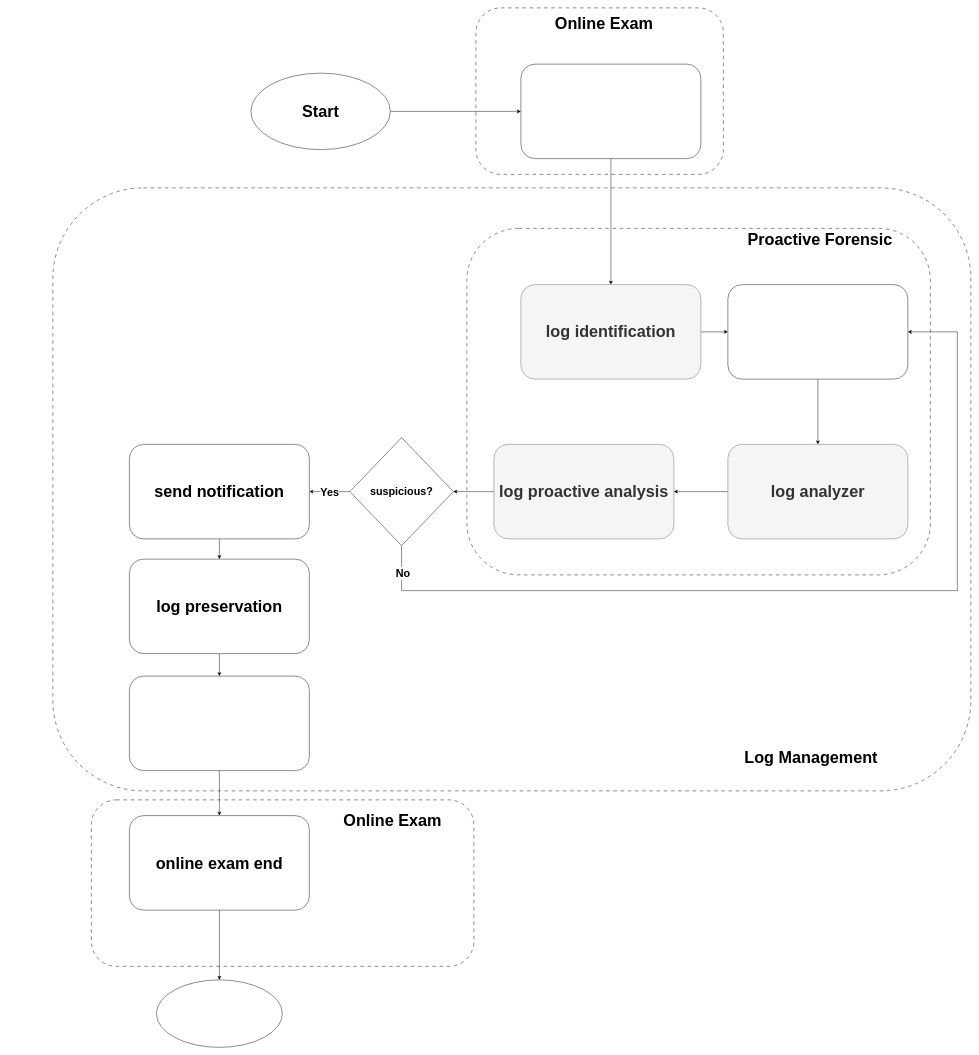
This 979x1055 diagram has some shape labels left out. Each missing label, with the centre of its shape:
"log proactive collection" belongs at (x=817, y=331).
"online exam start" belongs at (x=610, y=111).
"reporting" belongs at (x=219, y=723).
"stop" belongs at (x=219, y=1013).
